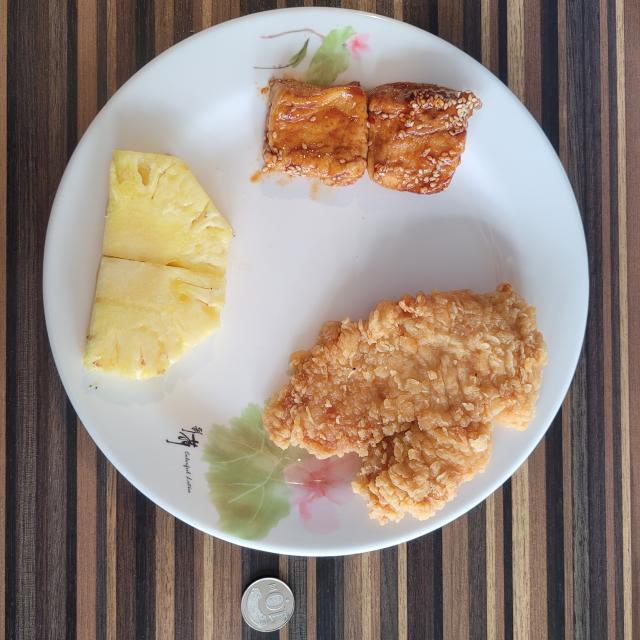coin: (241, 578, 294, 632)
creamy tofu: (262, 79, 481, 194)
fried chicken cutlet: (262, 282, 548, 524)
pineapple: (82, 150, 232, 380)
